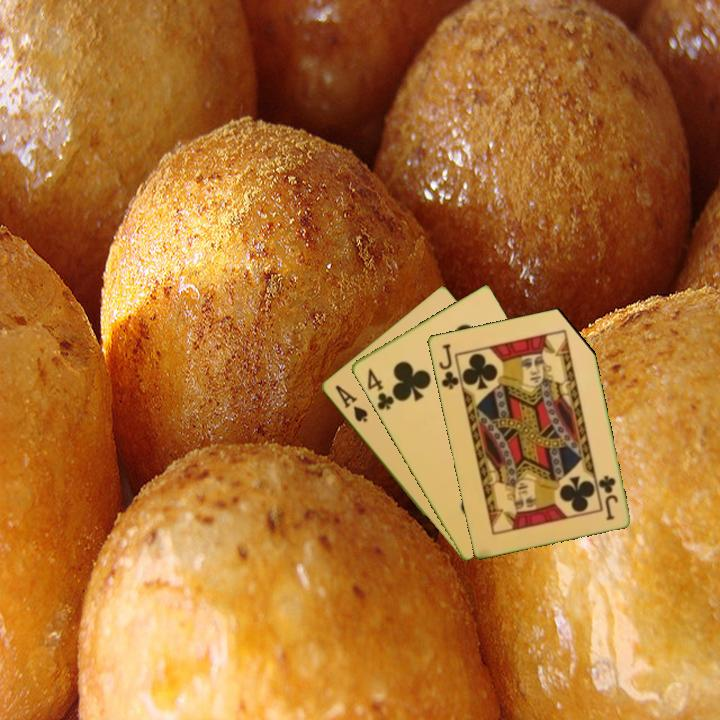4c: (363, 365, 397, 413)
As: (331, 381, 370, 425)
Jc: (435, 340, 461, 392), (595, 472, 620, 523)
